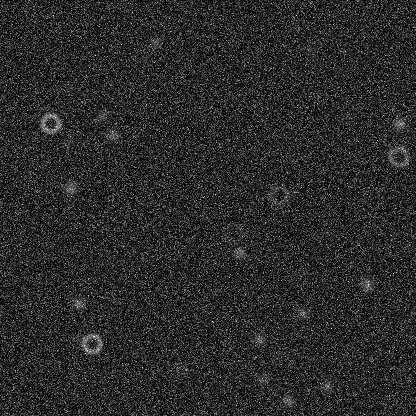Ring: (266, 183, 290, 207), (221, 221, 245, 245), (38, 111, 62, 135), (79, 331, 103, 355), (386, 144, 410, 168)
Spot: (172, 359, 188, 375), (358, 276, 374, 292), (231, 245, 247, 261), (279, 392, 295, 408), (147, 34, 163, 50), (19, 165, 35, 181), (59, 133, 75, 149), (391, 115, 407, 131), (104, 127, 120, 143), (300, 41, 316, 57), (317, 377, 333, 393), (62, 180, 78, 196), (70, 295, 86, 311), (254, 370, 270, 386), (93, 107, 109, 123), (294, 305, 310, 321), (69, 331, 85, 347), (339, 109, 355, 125), (250, 331, 266, 347), (269, 347, 285, 363)
